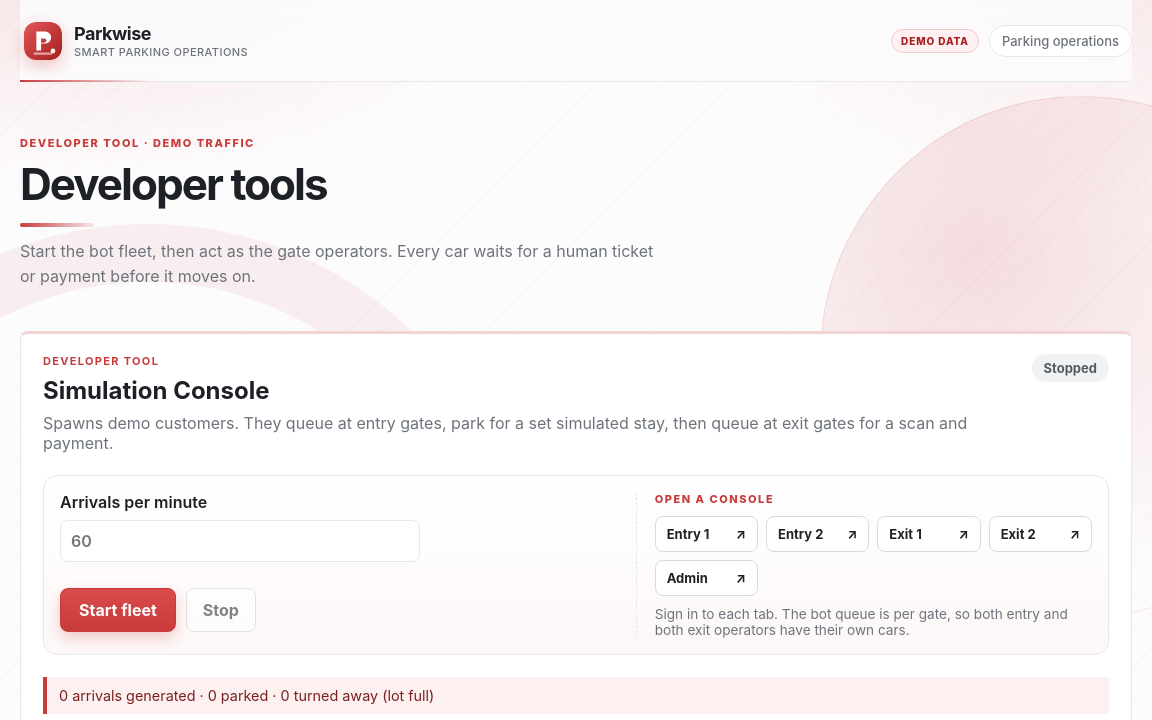
it: final accessibility pass › starting the bot fleet fills the entry queue and waiting counters
This screenshot has width=1152, height=720.
Type "600" into the number field labelled "Arrivals per minute" at [240, 541], box x1=60 y1=520 x2=420 y2=562
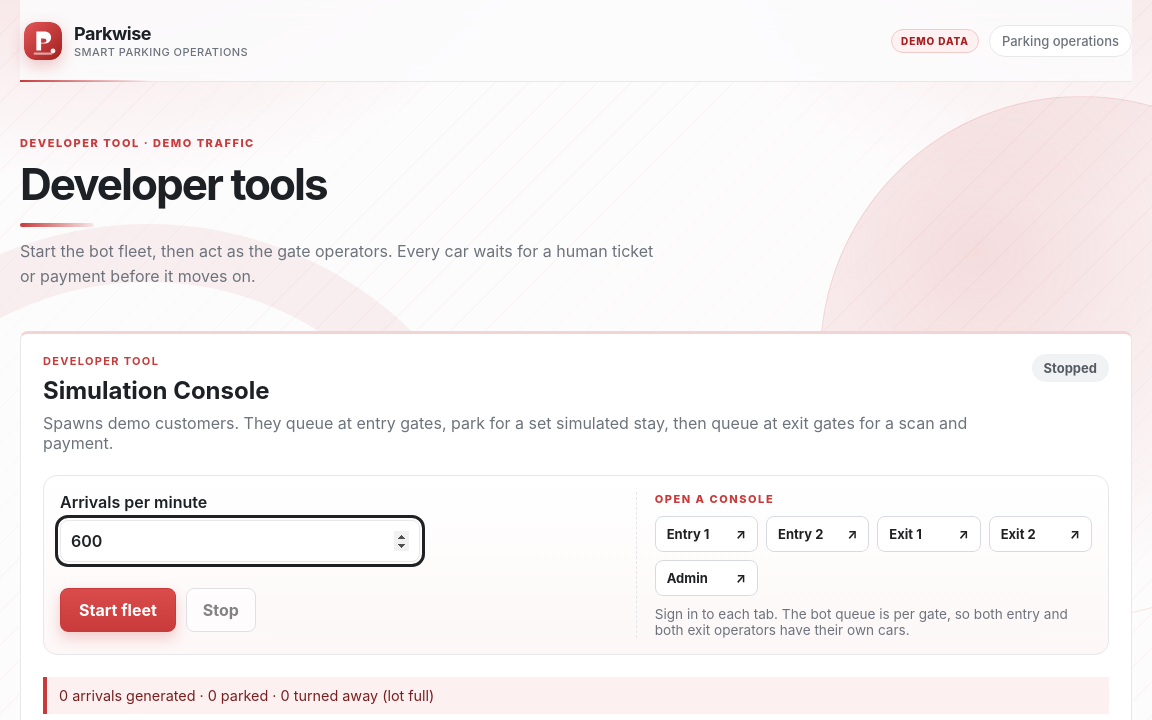
Click the button "Start fleet" at [118, 610], box x1=60 y1=588 x2=176 y2=632
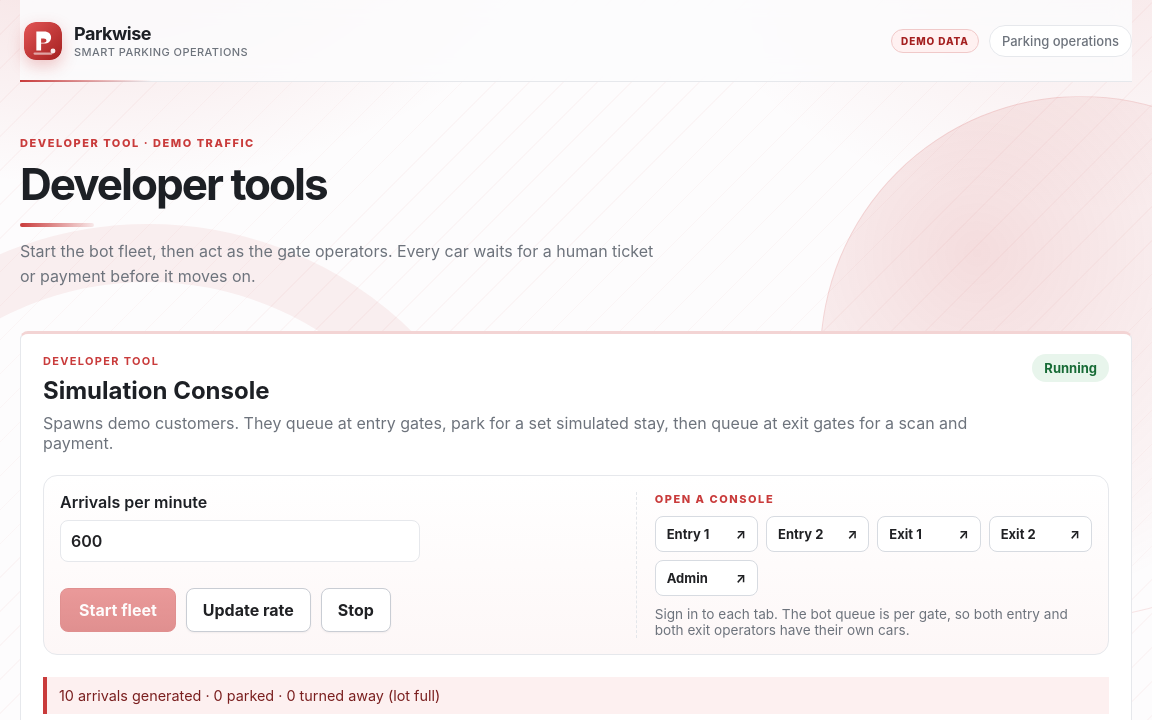
Click the button "Stop" at [356, 610], box x1=321 y1=588 x2=391 y2=632
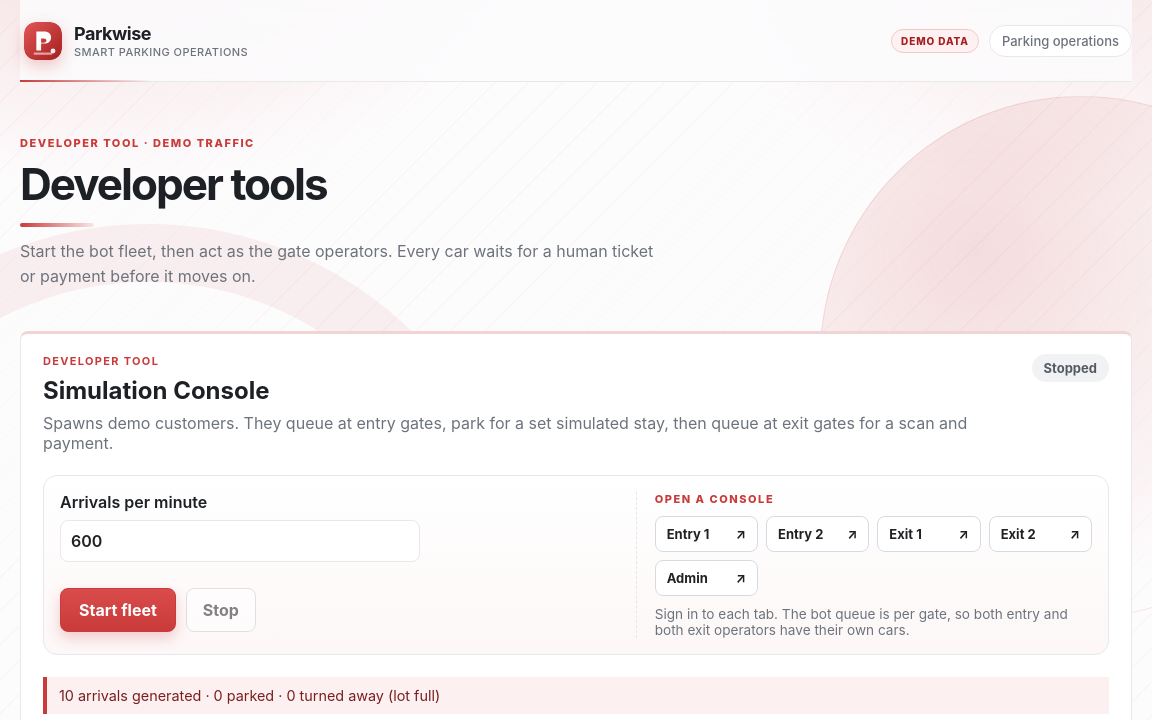
Now the text "Stopped" is shown, box x1=1032 y1=354 x2=1109 y2=382
